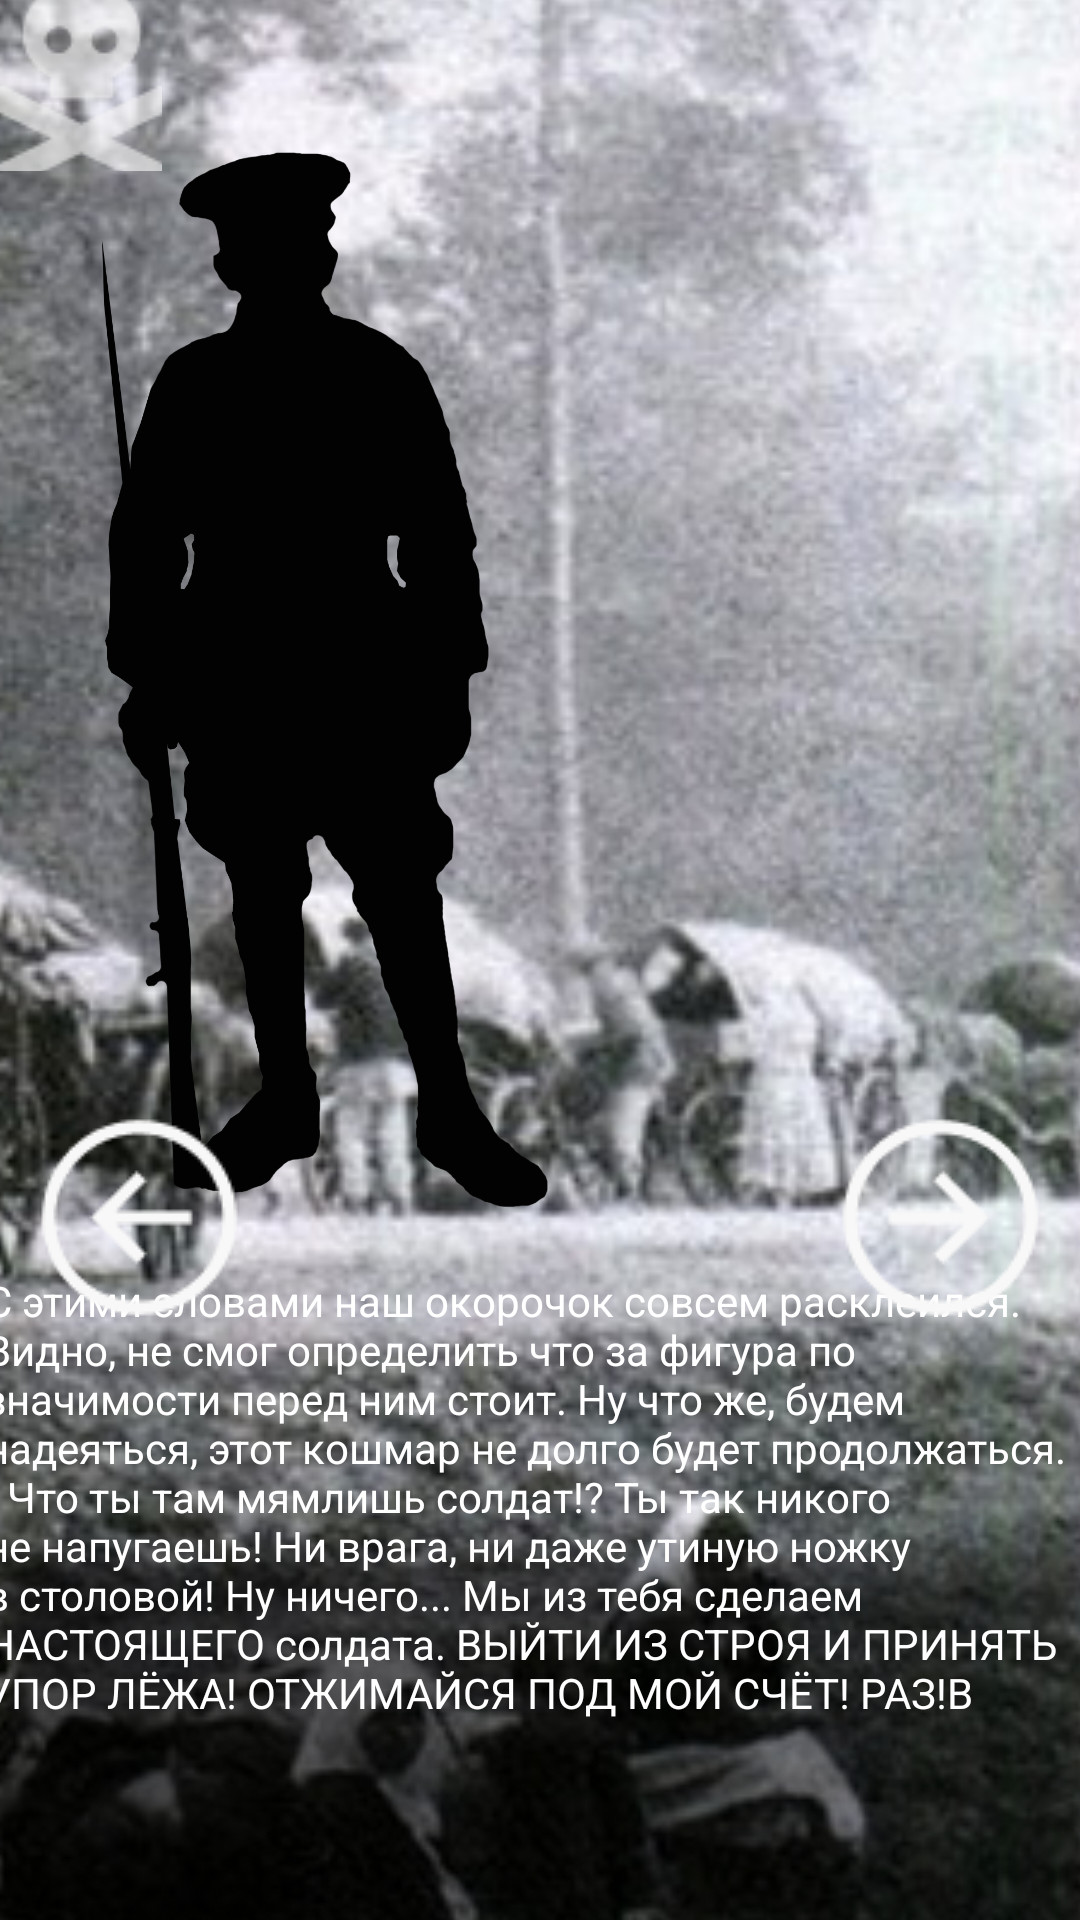

Where to tap for icons on this 1080w x 1920h app screen, as [x,y]:
back: [139,1217]
